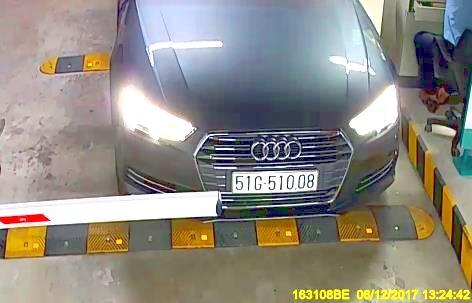plate: (225, 163, 320, 194)
